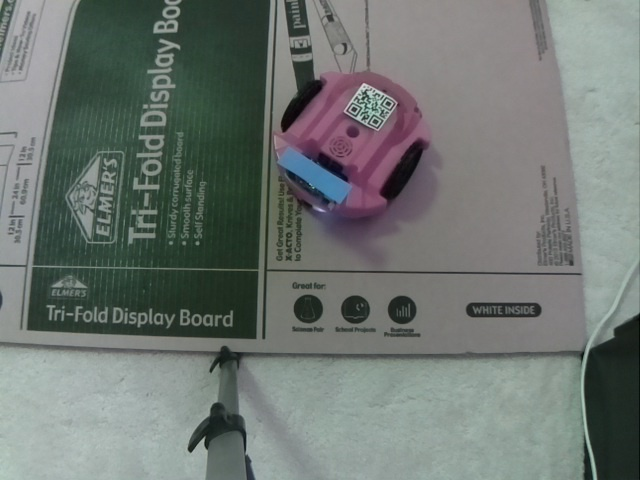board: (277, 141, 355, 207)
chassis: (271, 64, 431, 224)
